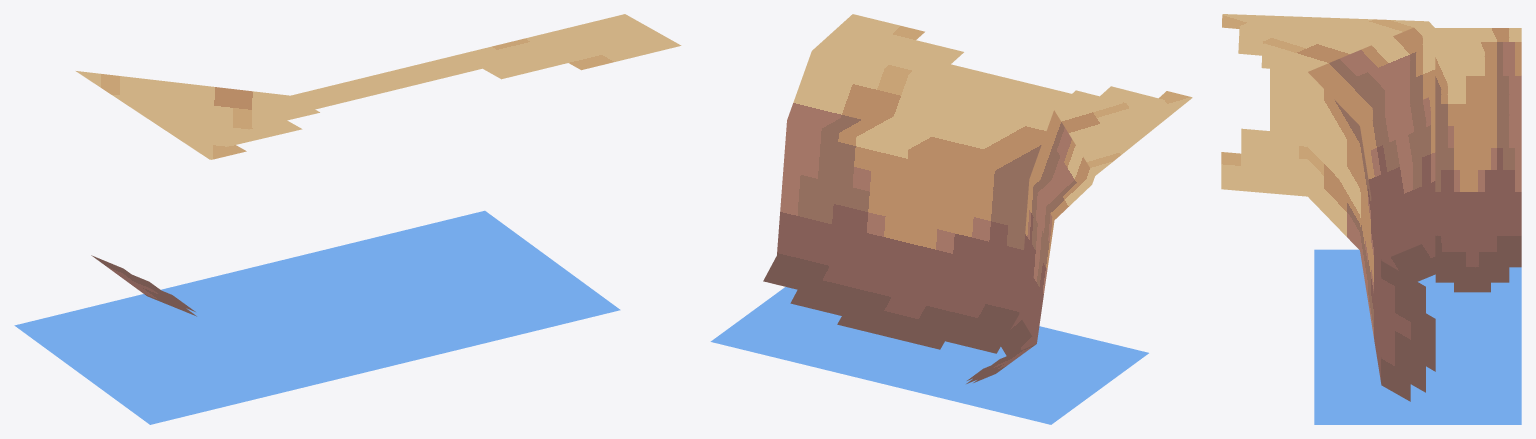
3 views of the same model, side by side, from view 1: azimuth 30°, elevation 25°; view 2: azimuth 150°, elevation 25°; view 3: azimuth 270°, elevation 25° (orthographic). The views are drawn at different scales.
Bounding box in the file's own units: 1 × 0.627 × 0.7236.
2 materials, 2 textured.
